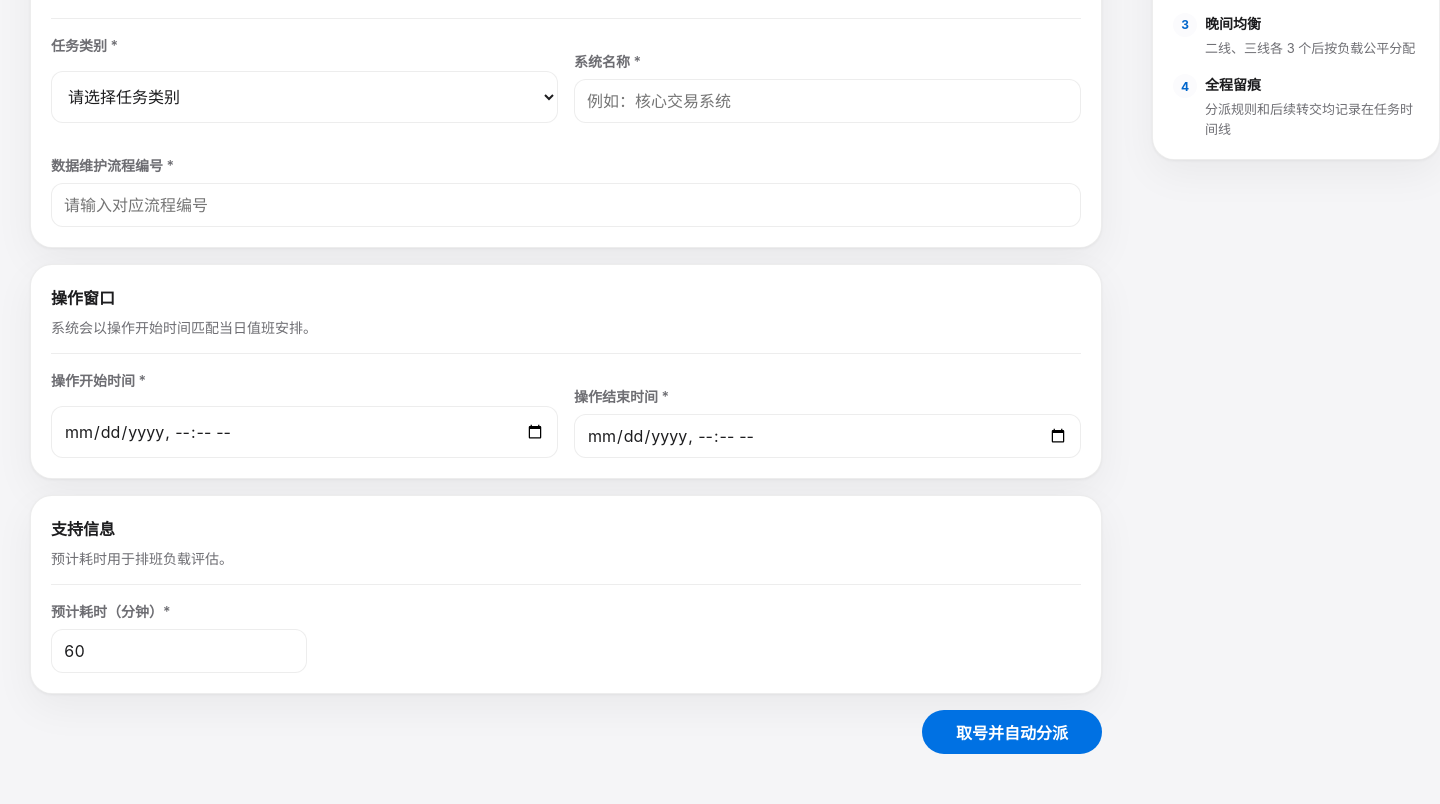
TaskCreatePage › focuses the first invalid create field and keeps the error beside the form
(page scrolled)
Click the button with test id "submit-task".
click(1012, 732)  # box [922, 710, 1102, 754]
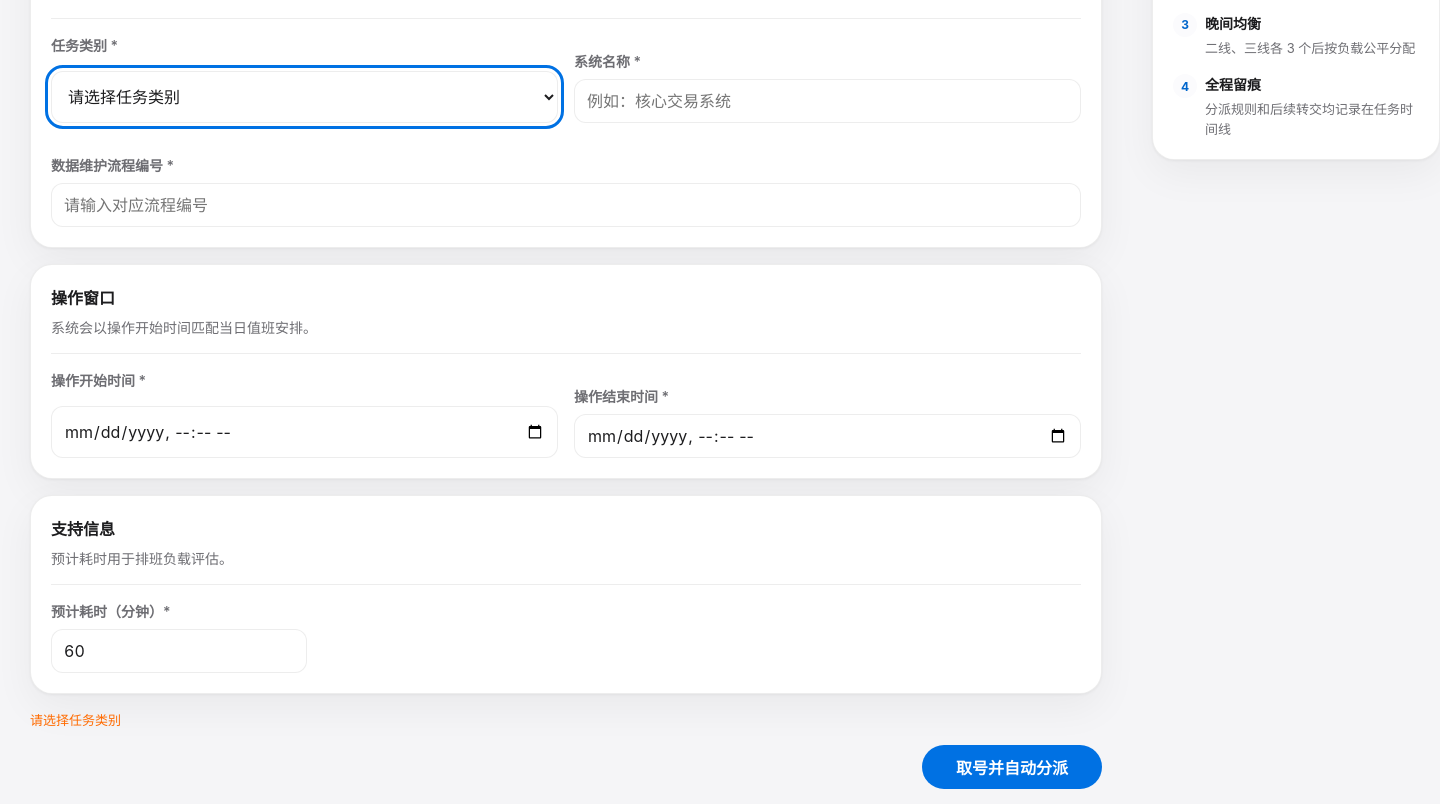
Result: the message "请选择任务类别" is shown at [30, 712, 121, 728]
